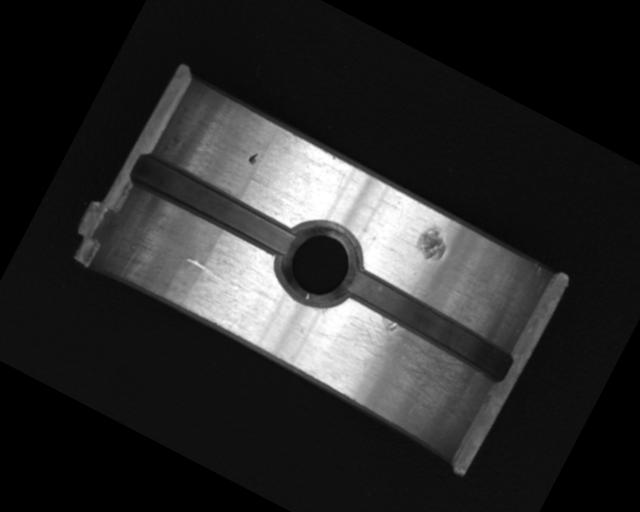bruise: (412, 221, 455, 268), (245, 148, 261, 167)
gap: (334, 263, 519, 386), (127, 149, 302, 264)
hole: (265, 207, 374, 320)
nick: (180, 254, 242, 295)
scratch: (306, 291, 486, 434)
